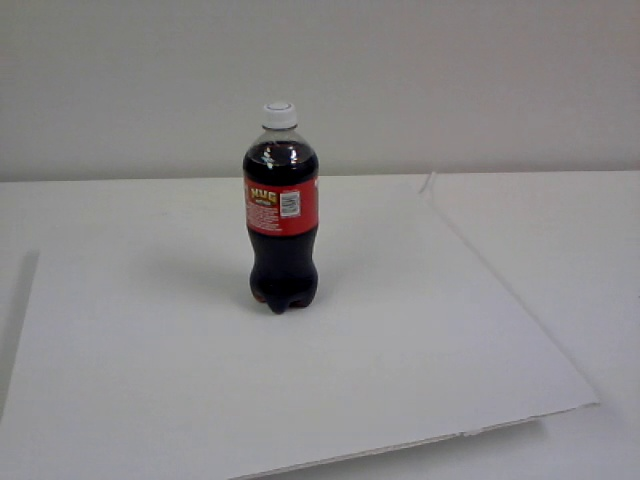botolplastik: (244, 102, 319, 314)
